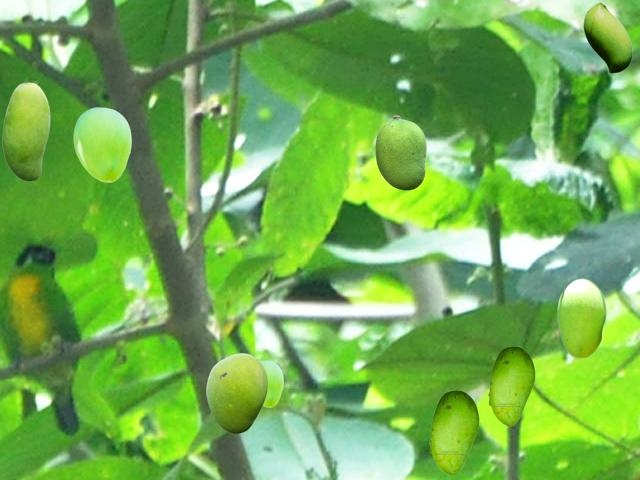green_mango: (206, 353, 266, 432), (2, 82, 49, 180), (73, 107, 130, 181), (429, 390, 478, 474), (557, 278, 605, 357), (375, 115, 425, 189), (488, 346, 534, 425), (583, 2, 631, 72), (260, 360, 282, 406)
